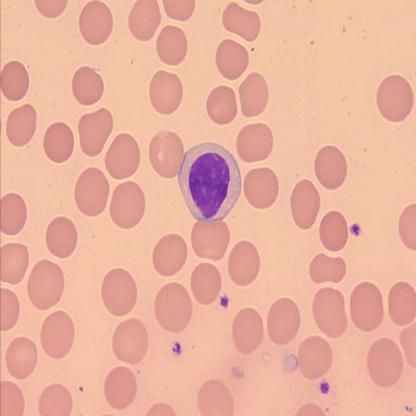Atypical lymphocyte: (178, 141, 244, 222)
